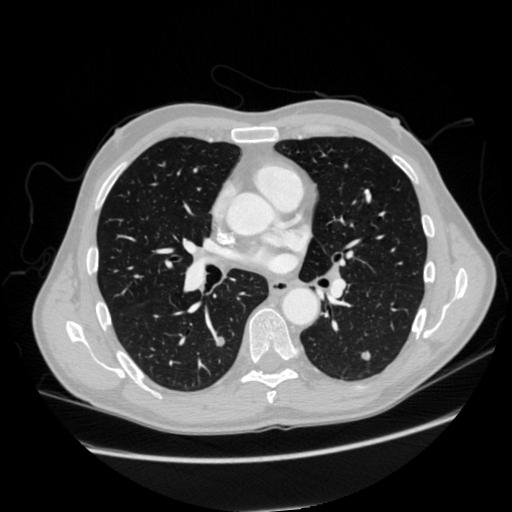nodule: (213, 334, 228, 349)
